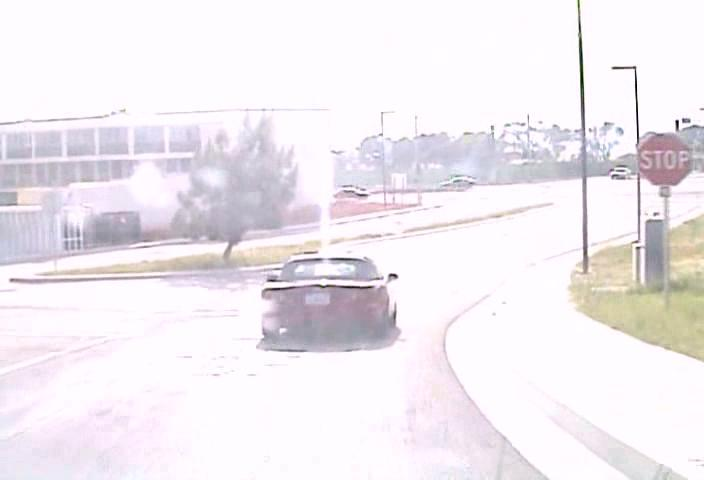stop: (637, 131, 692, 186)
